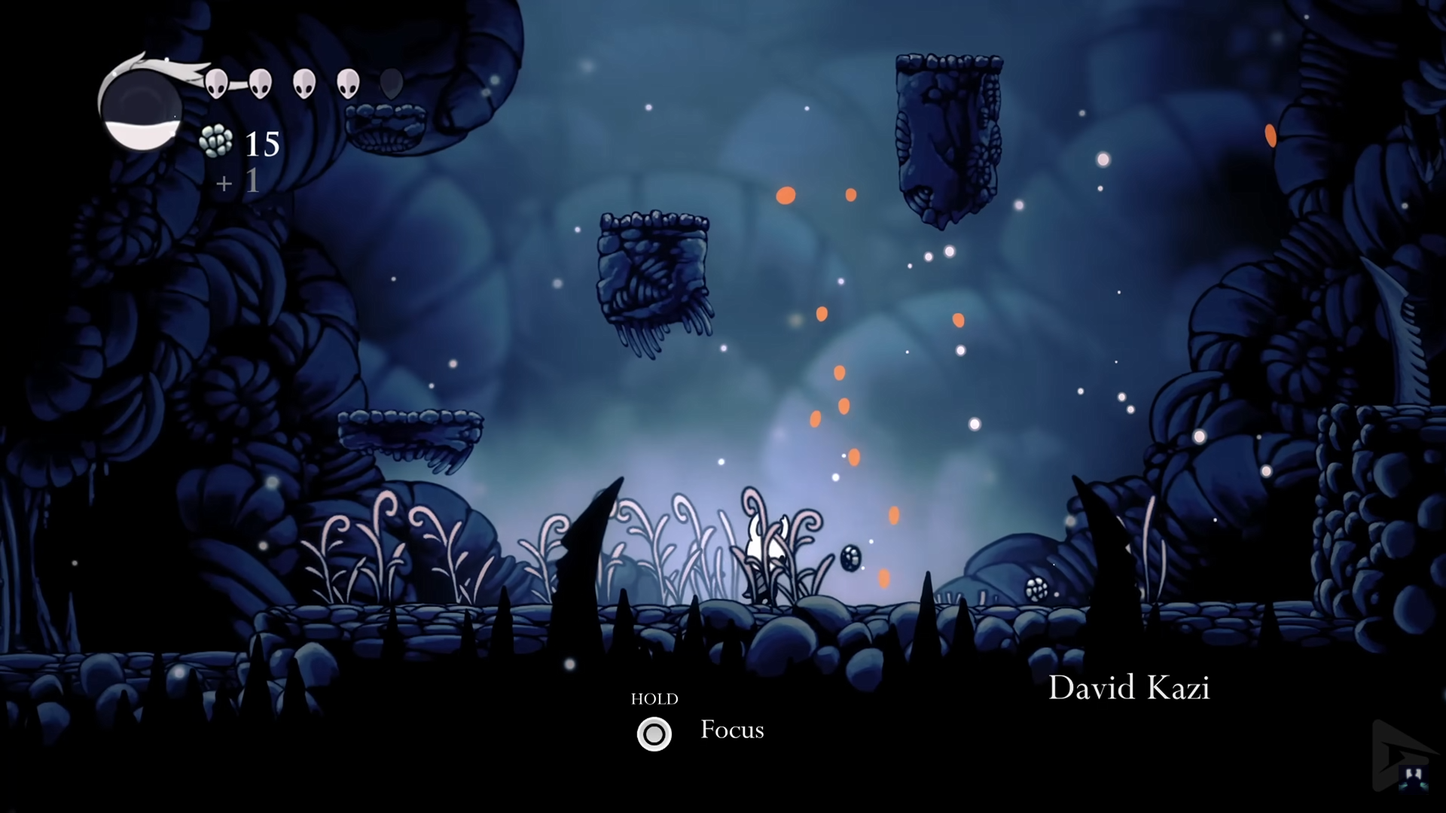HK: (738, 506, 795, 612)
